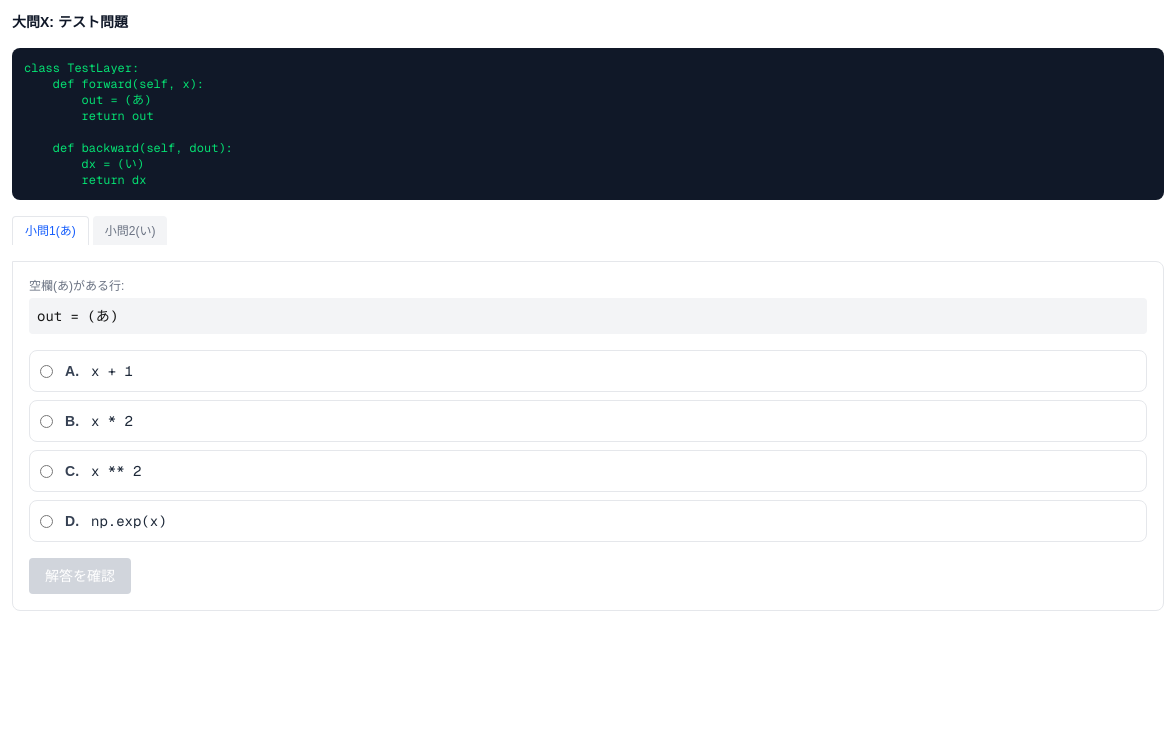
Scenario: ExamCodeProblem › 正解選択 → 解答確認後に正解と解説が表示される
Step 1. Click the radio button labelled "C. x ** 2" → (46,471), box [40,464,53,478]
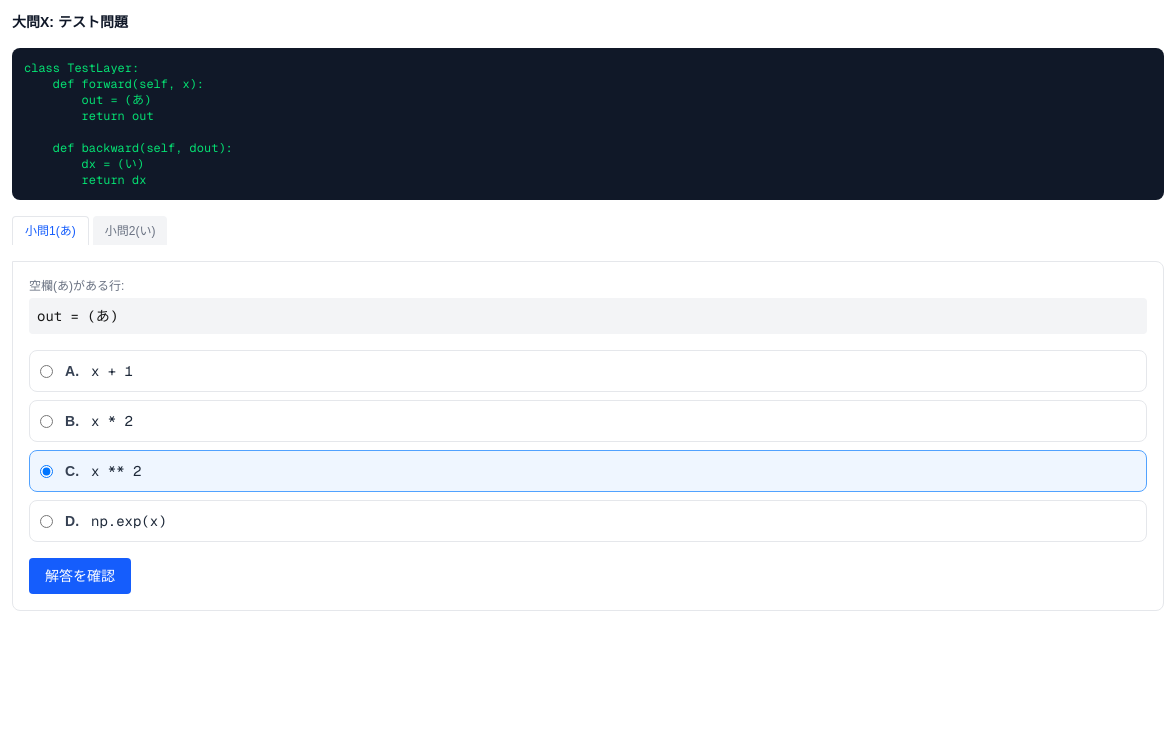
Step 2. Click the button "解答を確認" → (80,576), box [29,558,131,594]
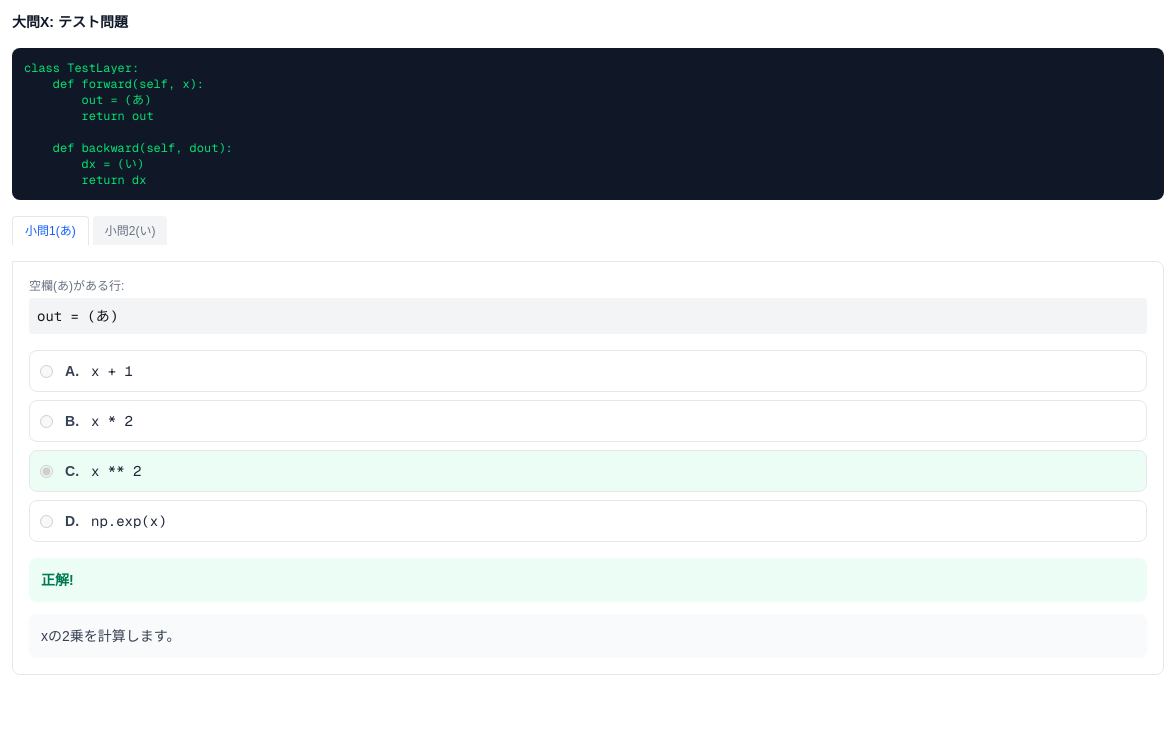
Check: the text "正解!" is shown, box [29,558,1147,602]
Check: the text with test id "exam-result" shows "正解", box [41,572,74,588]
Check: the text "xの2乗を計算します。" is shown, box [29,614,1147,658]
